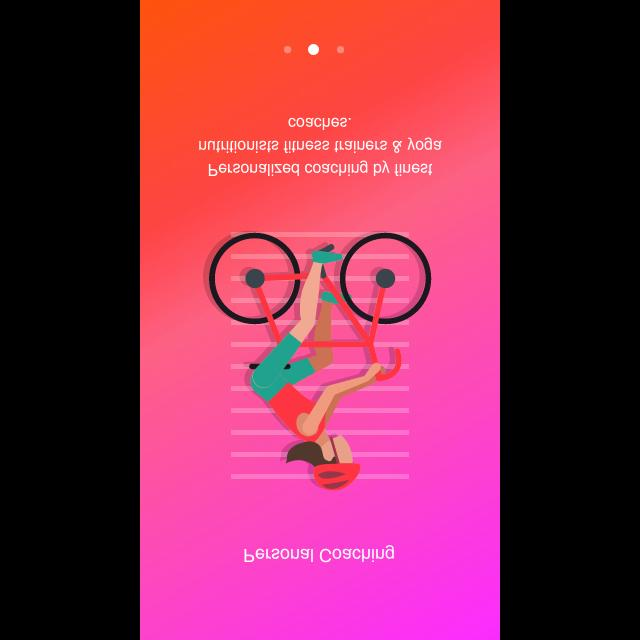image: (204, 231, 432, 491)
pageindicator: (284, 44, 344, 56)
text: (199, 117, 443, 177), (244, 544, 396, 564)
